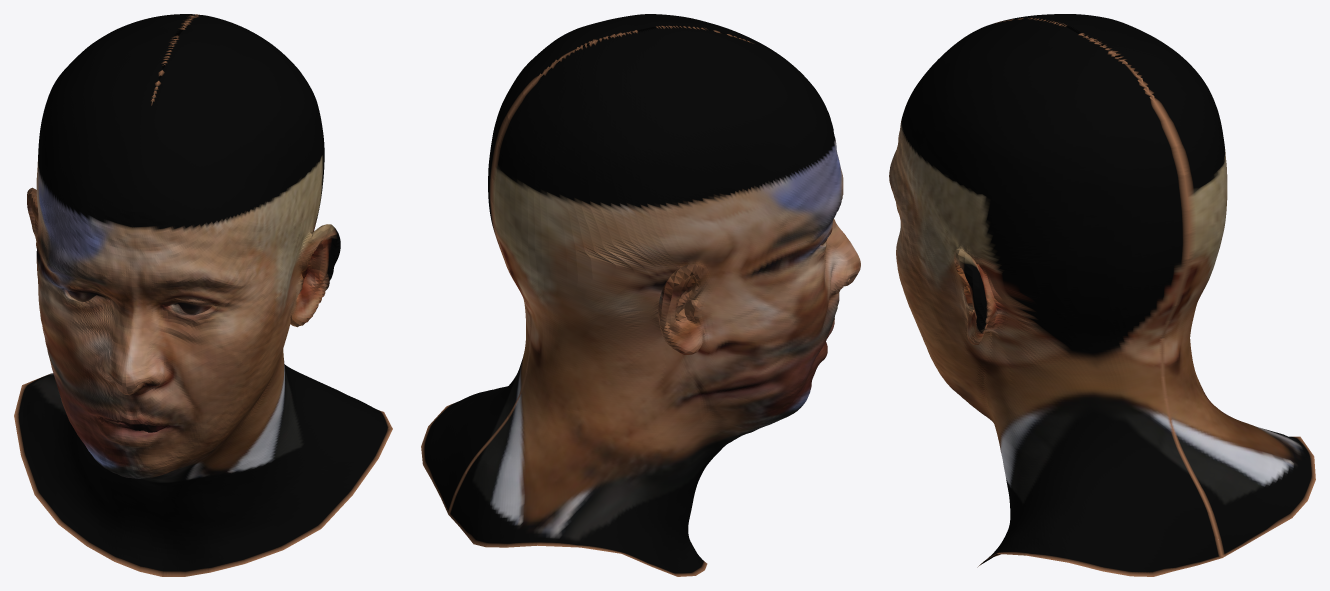
The model's file is mesh_coarse_detail.obj.
3 renders of one model, left to right at view 1: azimuth 30°, elevation 25°; view 2: azimuth 150°, elevation 25°; view 3: azimuth 270°, elevation 25°, orthographic.
Size of the model in its own units: 0.2331 by 0.3275 by 0.2372.
